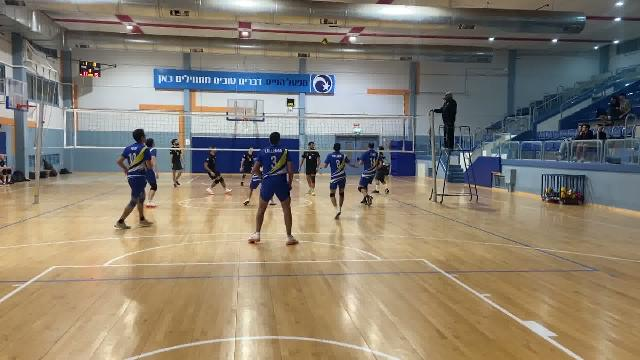ball: (322, 39, 332, 45)
